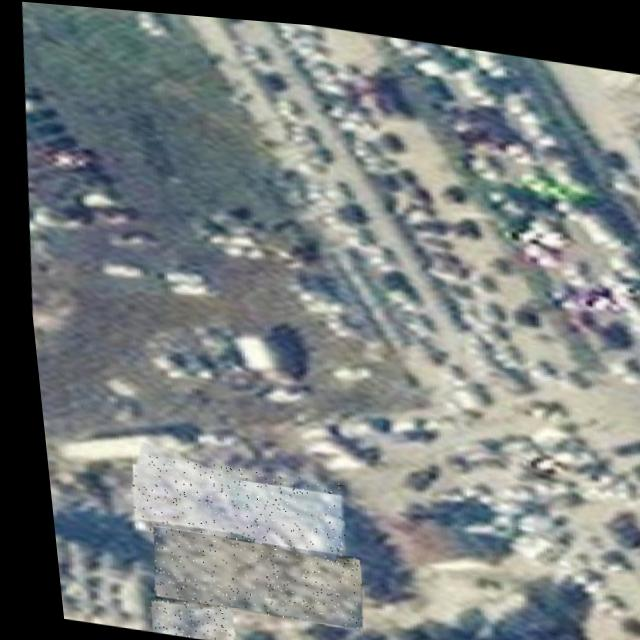Rubble: (116, 449, 339, 555), (136, 523, 355, 623), (135, 594, 223, 640)
